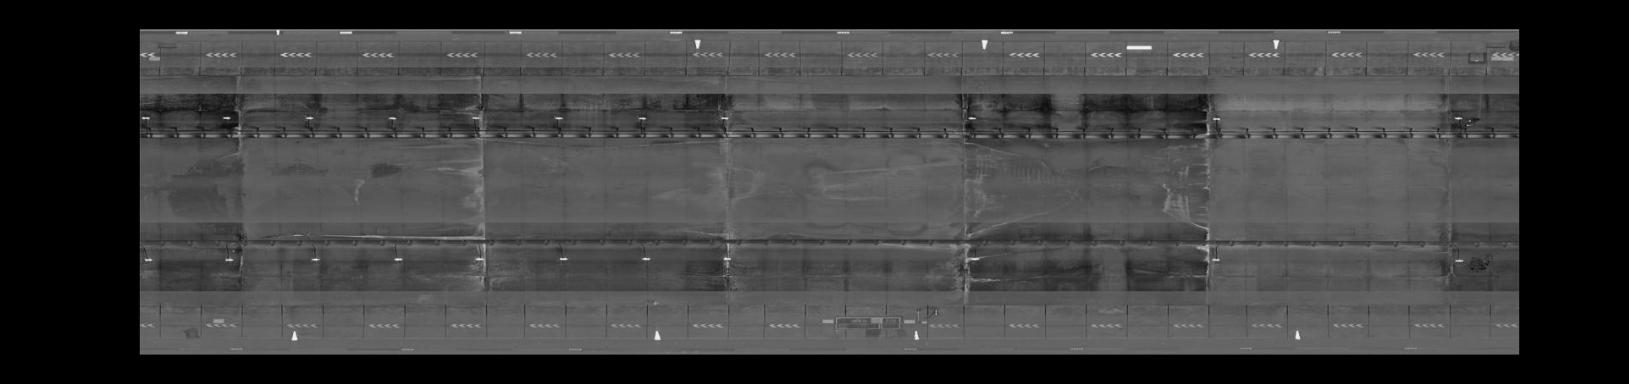light: (633, 111, 648, 124), (308, 254, 325, 265), (637, 253, 655, 264), (302, 113, 320, 122), (468, 114, 485, 124), (716, 254, 736, 263), (967, 254, 987, 263), (1207, 255, 1226, 264), (219, 114, 235, 124), (385, 114, 402, 122), (551, 114, 567, 122), (717, 114, 733, 122), (221, 256, 240, 264), (1208, 114, 1223, 124), (1450, 113, 1465, 122), (555, 254, 570, 263), (471, 255, 488, 263), (1452, 257, 1467, 266), (967, 113, 979, 124), (143, 254, 156, 264), (140, 113, 152, 122), (390, 256, 406, 263)
